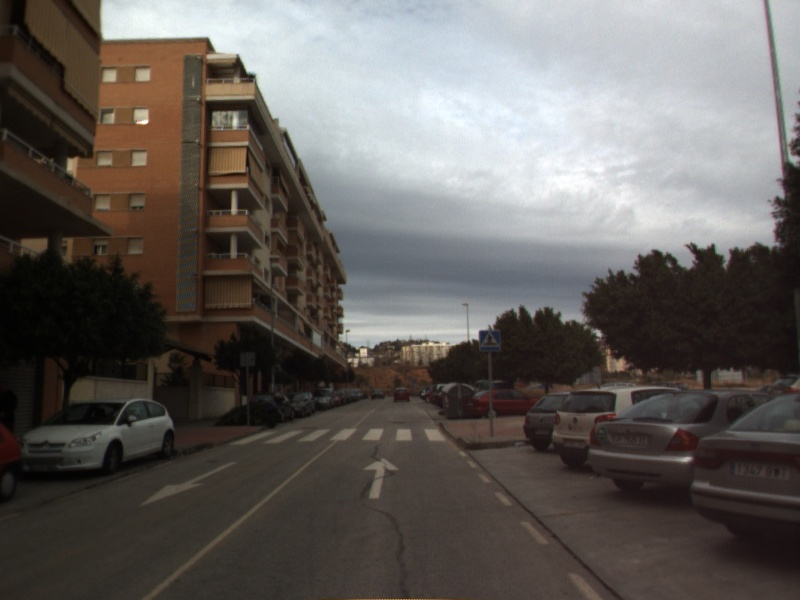STRAIGHT: (361, 456, 402, 500)
